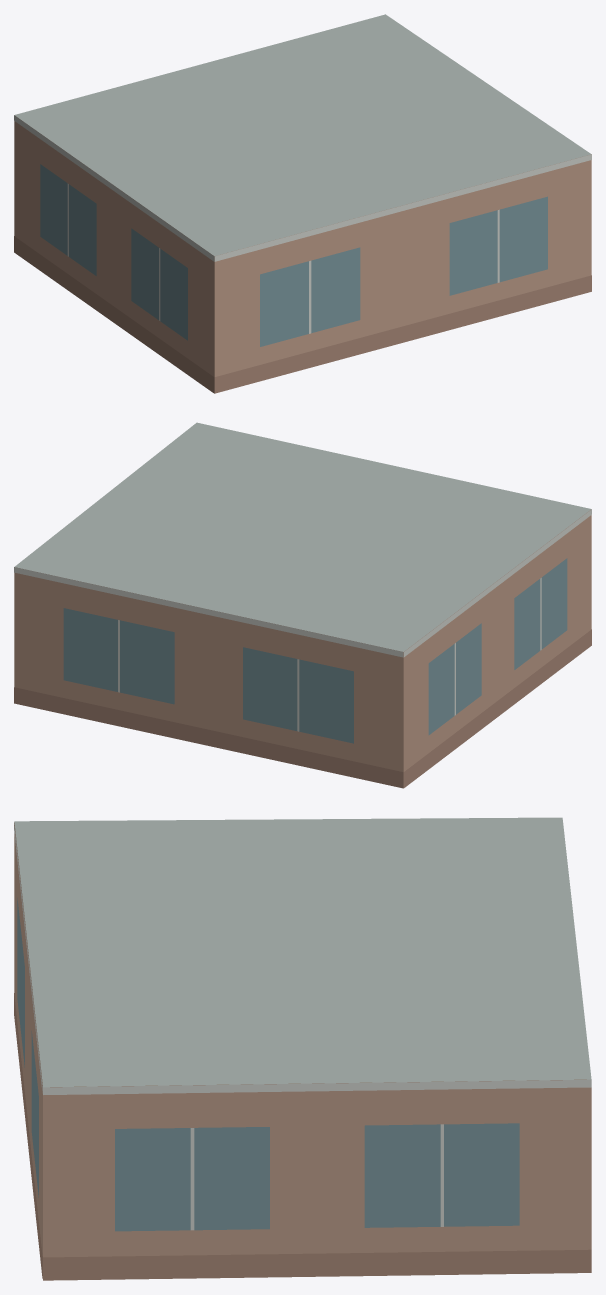
File: survey-upis-32550024.glb
The picture shows the model from 3 angles, top to bottom: view 1: azimuth 30°, elevation 25°; view 2: azimuth 150°, elevation 25°; view 3: azimuth 270°, elevation 25°; orthographic projection. The views are drawn at different scales.
Parts seen in each view (by area): view 1: survey-upis-32550024.tmp; view 2: survey-upis-32550024.tmp; view 3: survey-upis-32550024.tmp.
Boxes of the visible parts, bbox=[...] form: survey-upis-32550024.tmp: bbox=[14, 14, 591, 393]; survey-upis-32550024.tmp: bbox=[14, 422, 591, 788]; survey-upis-32550024.tmp: bbox=[14, 817, 591, 1280].
Size of the model in its own units: 9.14 by 3.05 by 8.27.
